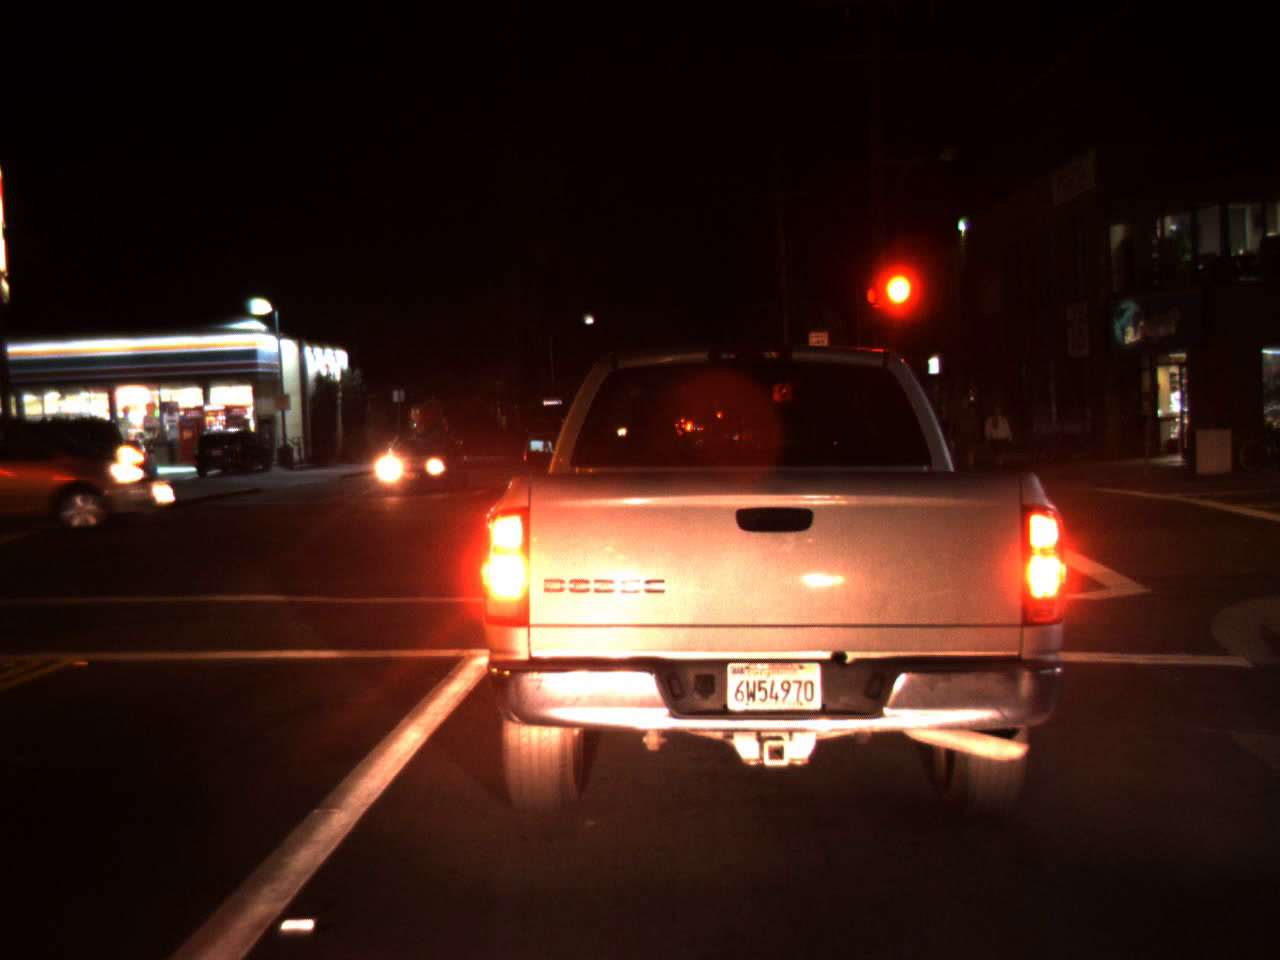stop: (877, 269, 914, 344)
